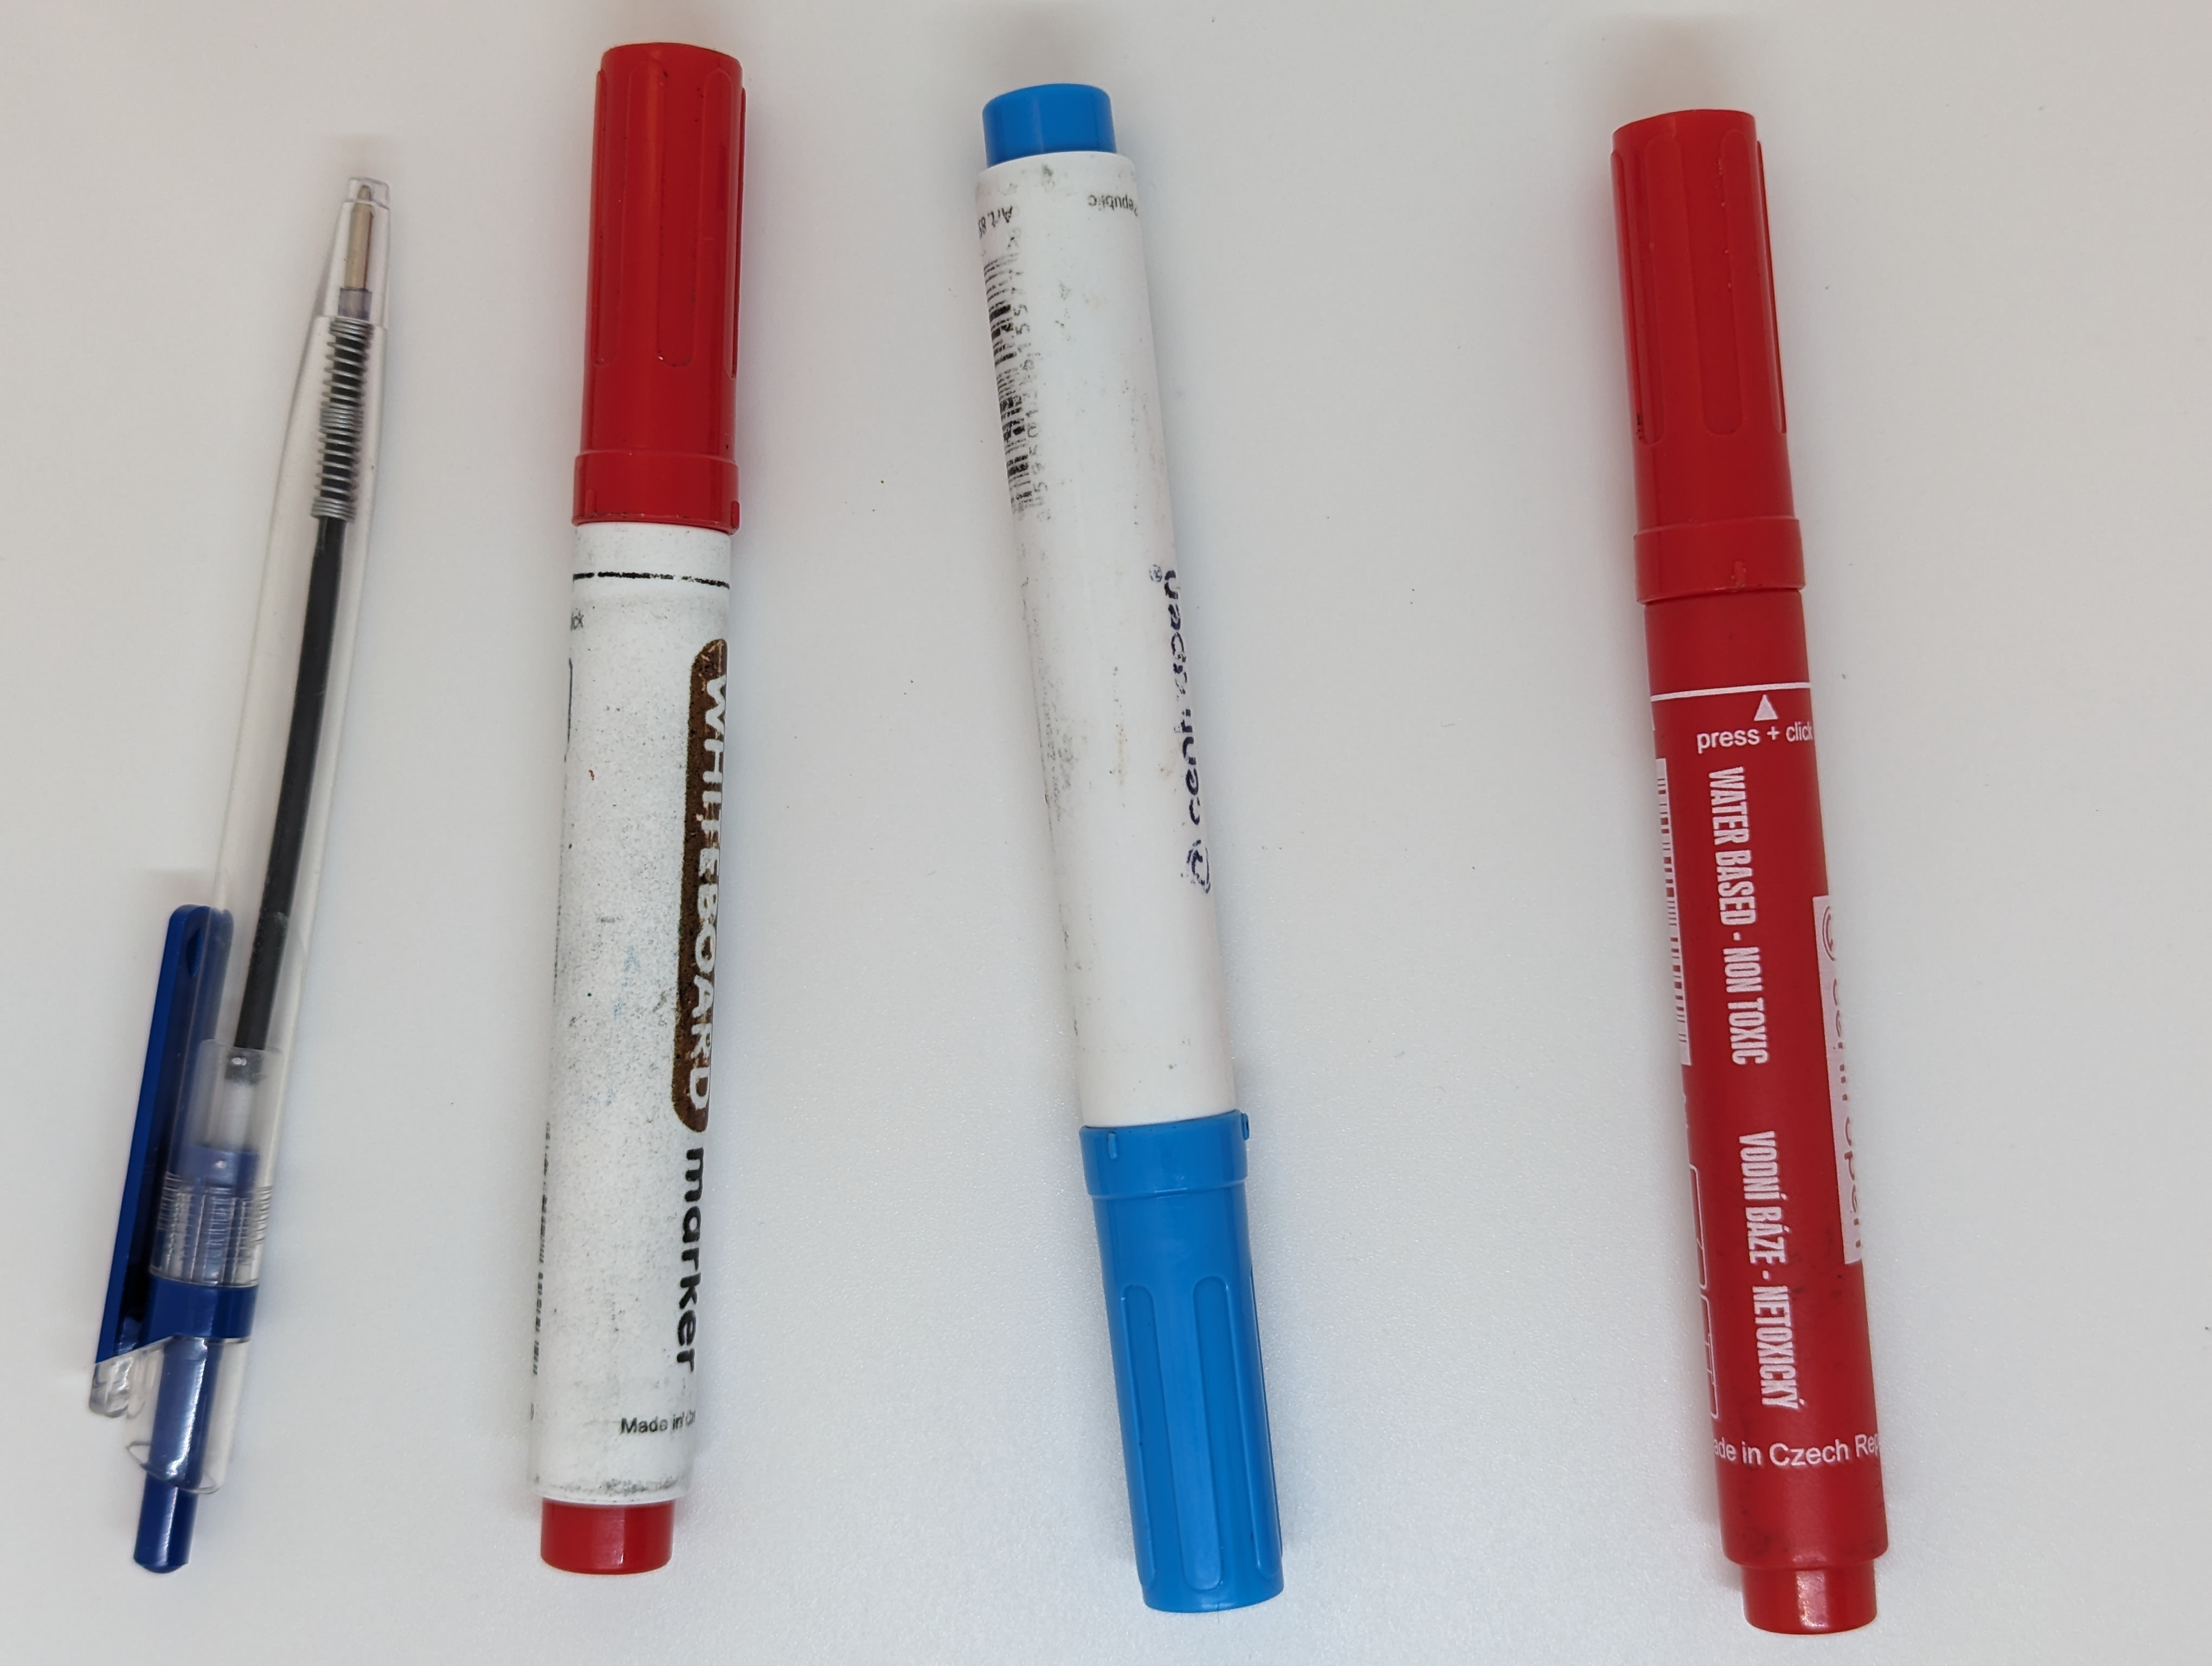blue-stylo: (894, 52, 1362, 1649)
red-red-stylo: (1544, 79, 1997, 1650)
red-stylo: (518, 25, 764, 1615)
regular-stylo: (87, 131, 393, 1586)
